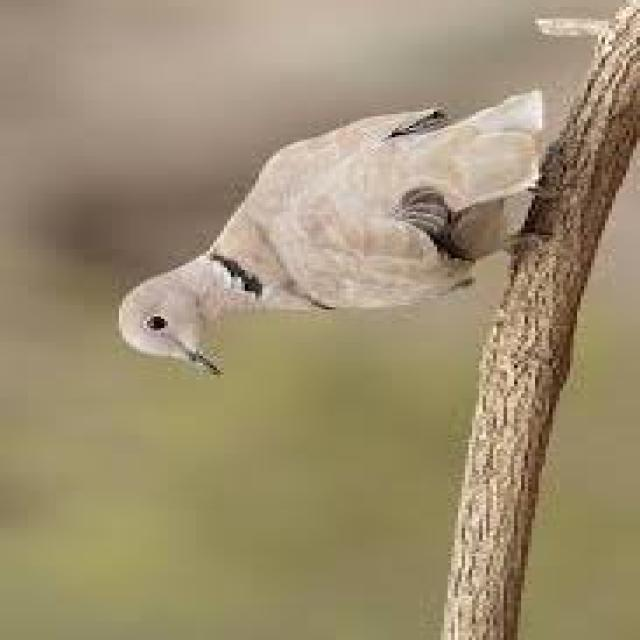pigeon: (99, 76, 550, 413)
